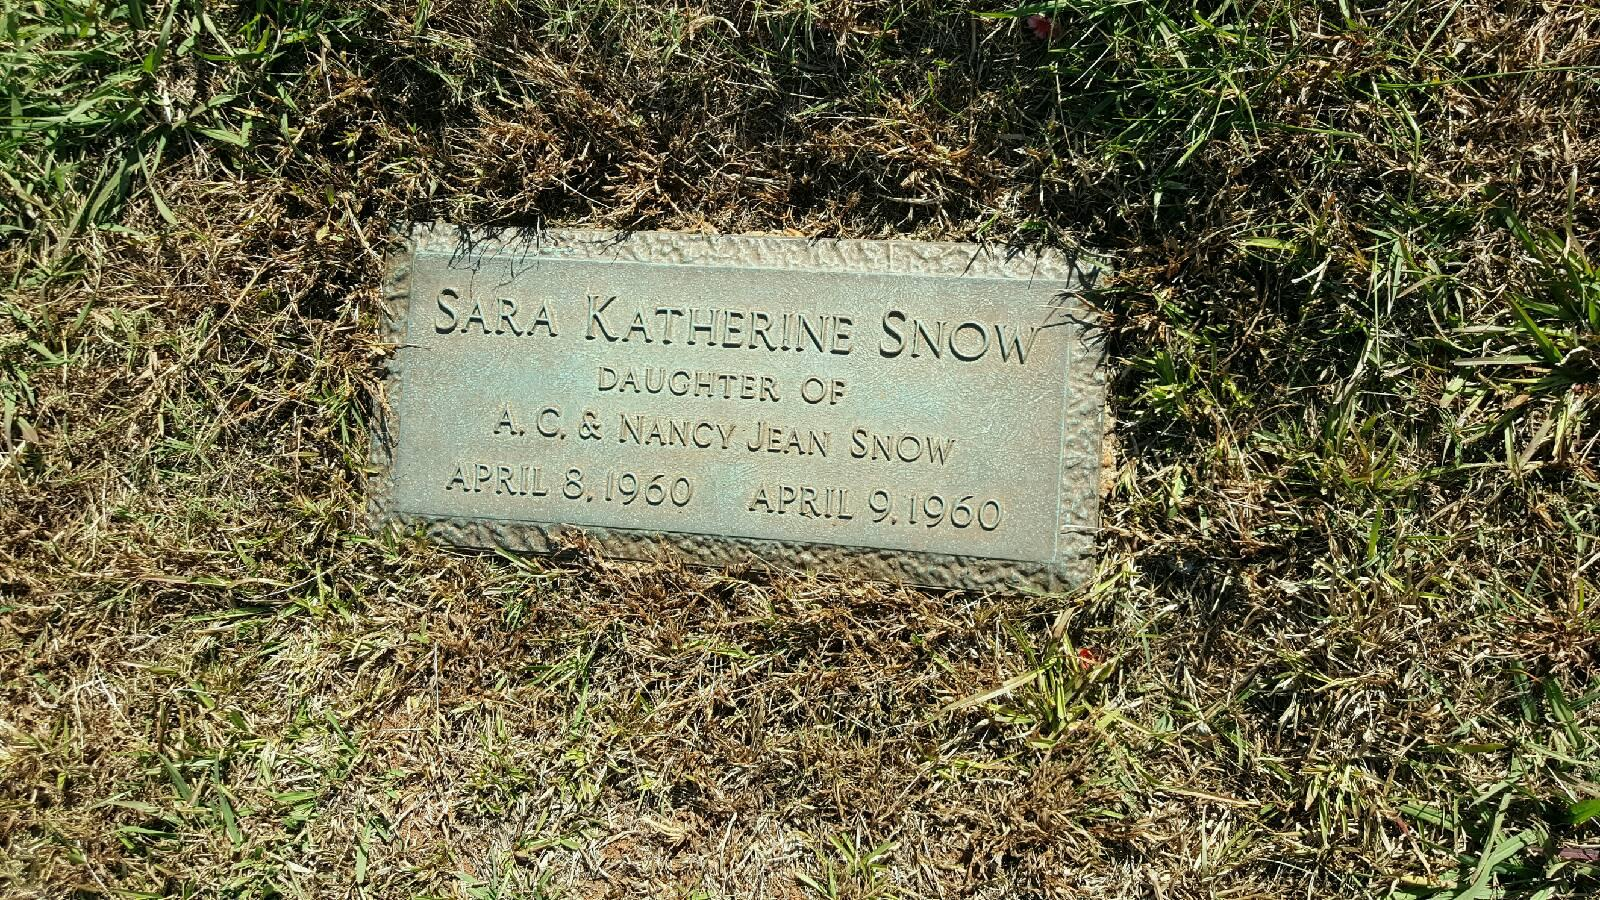flat: (367, 218, 1111, 578)
